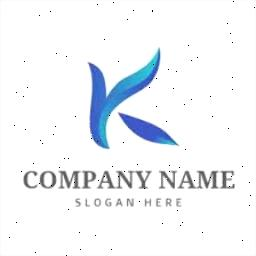a: (97, 169, 115, 193)
c: (18, 169, 38, 195)
e: (218, 168, 240, 192)
m: (58, 168, 82, 192)
n: (116, 170, 136, 188)
o: (39, 168, 57, 194)
p: (82, 168, 98, 190)
y: (135, 168, 153, 190)
